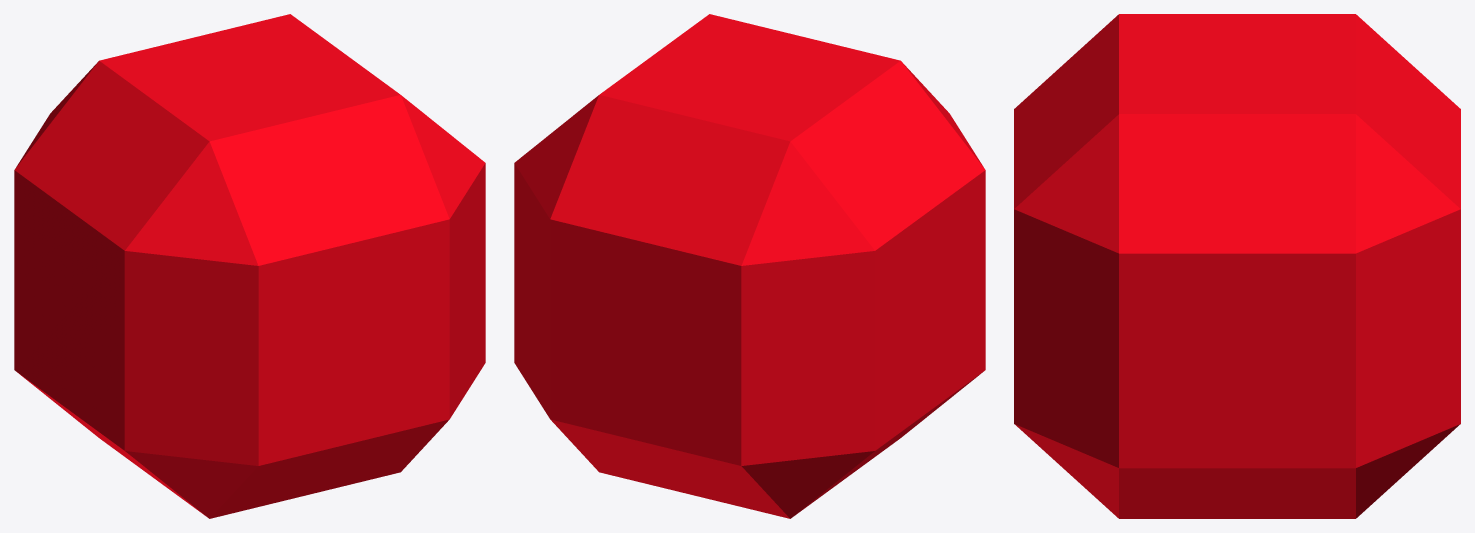
Rendered from berm.obj.
3 renders of one model, left to right at view 1: azimuth 30°, elevation 25°; view 2: azimuth 150°, elevation 25°; view 3: azimuth 270°, elevation 25°, orthographic. The views are drawn at different scales.
Visible parts, largest first — view 1: ビーム_立方体; view 2: ビーム_立方体; view 3: ビーム_立方体.
Boxes of the visible parts, left/top/right/bottom form: ビーム_立方体: left=14, top=14, right=485, bottom=518; ビーム_立方体: left=514, top=14, right=985, bottom=518; ビーム_立方体: left=1014, top=14, right=1460, bottom=518.
Bounding box in the file's own units: 2 × 2 × 2.
1 material, 1 textured.
